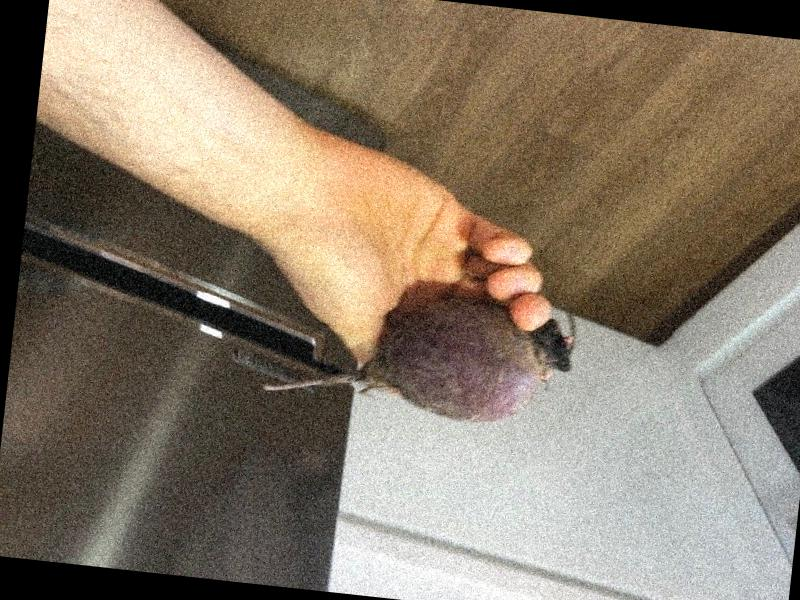Beet: (262, 279, 580, 432)
